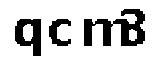3: (120, 7, 146, 51)
c: (48, 18, 73, 49)
m: (80, 19, 131, 54)
q: (12, 16, 45, 60)
